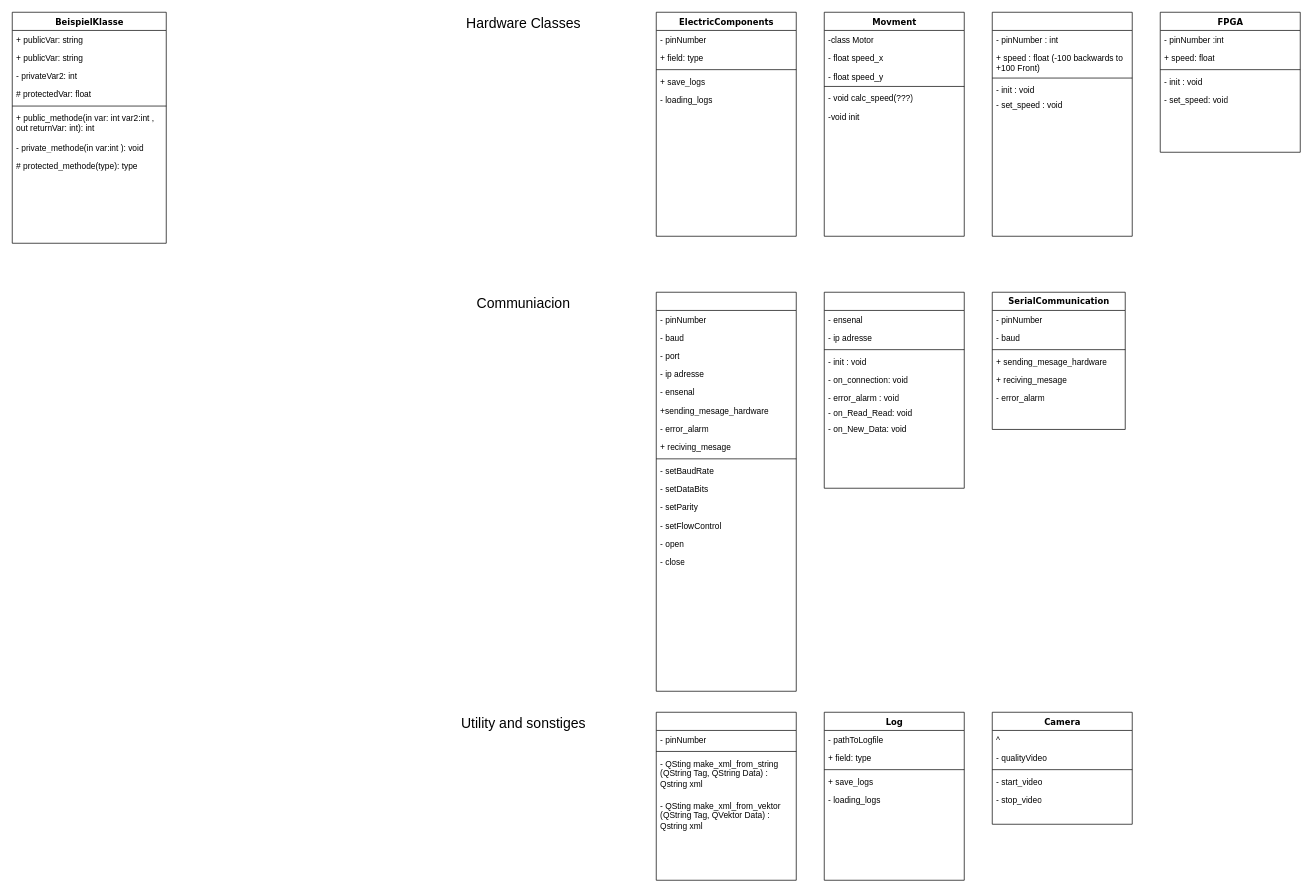
Some shapes in this 1313 by 893 pixel diagram are drawn without their labels. Each missing label, with the box of its shape:
Communication: (656, 292, 796, 691)
Motor: (992, 12, 1132, 236)
Utility: (656, 712, 796, 880)
WirelessCommunication: (824, 292, 964, 488)
